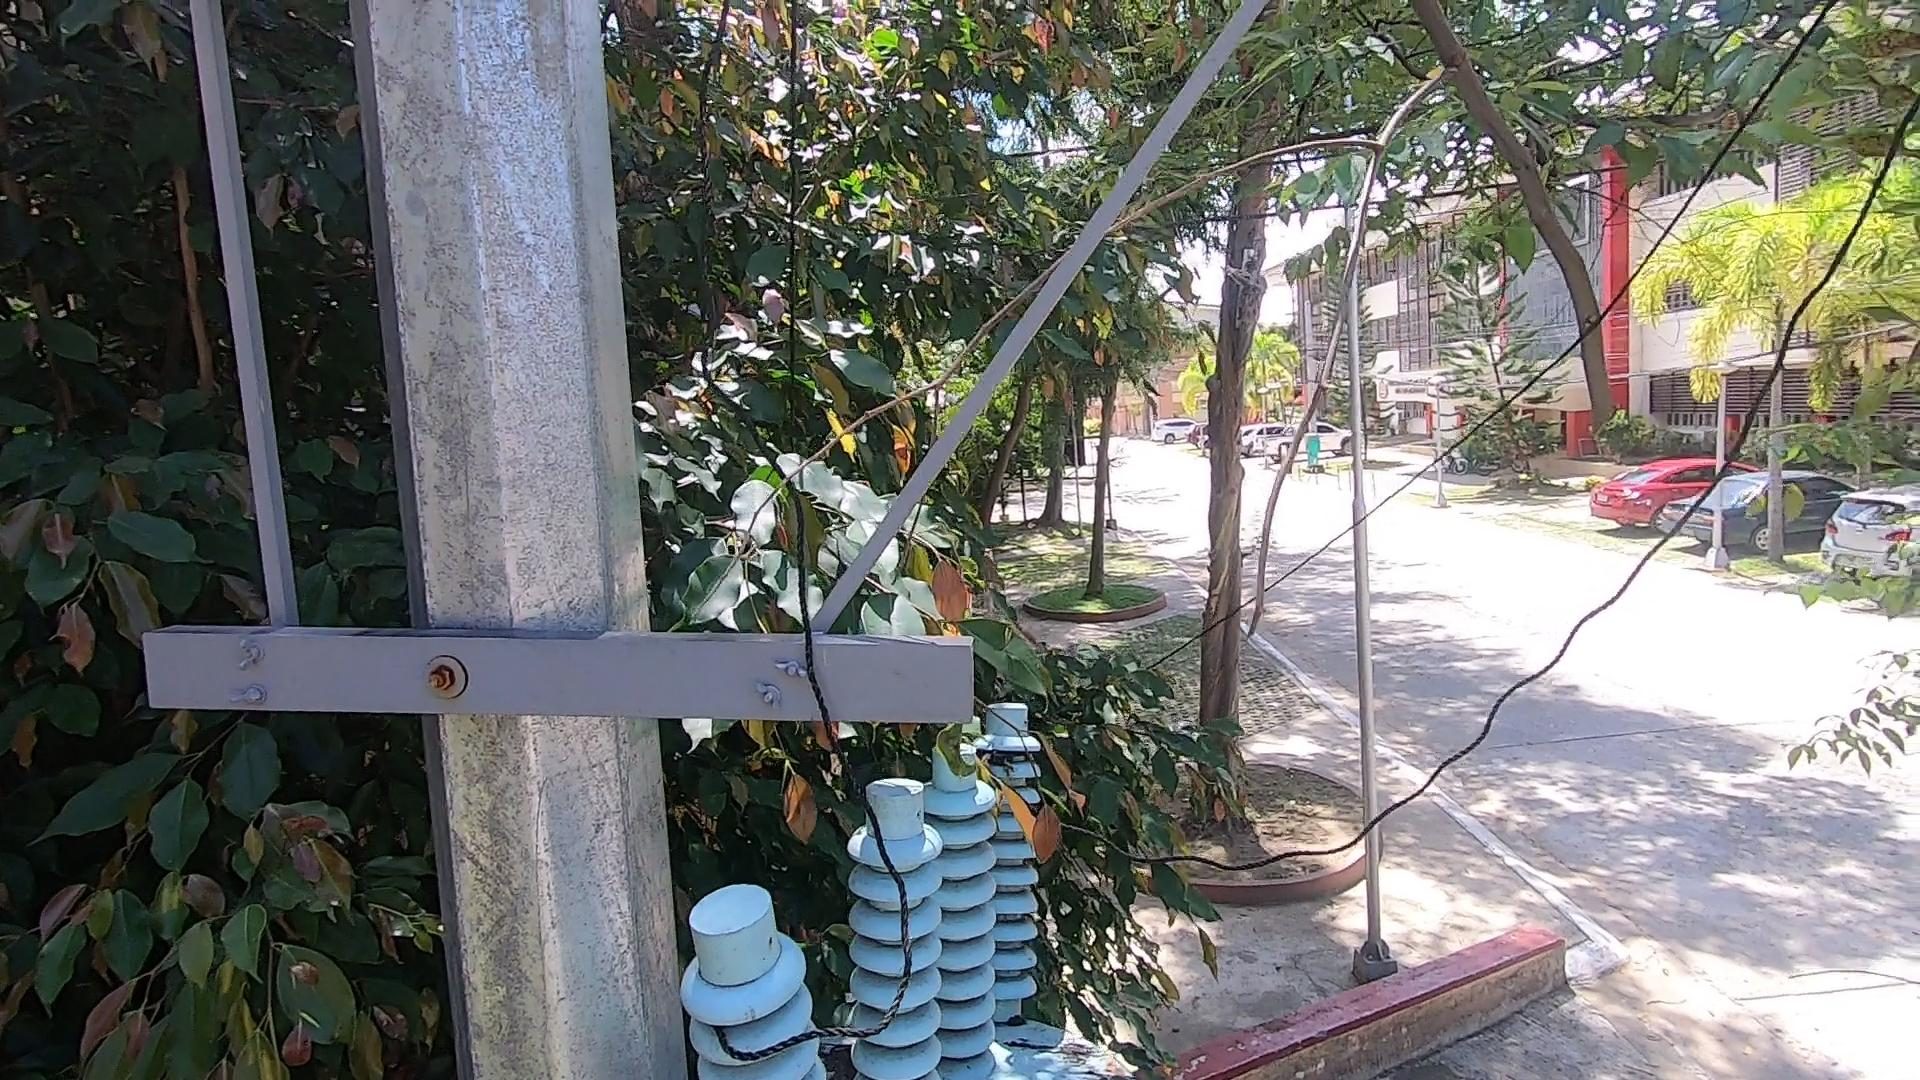tree branch: (742, 1, 1667, 644)
